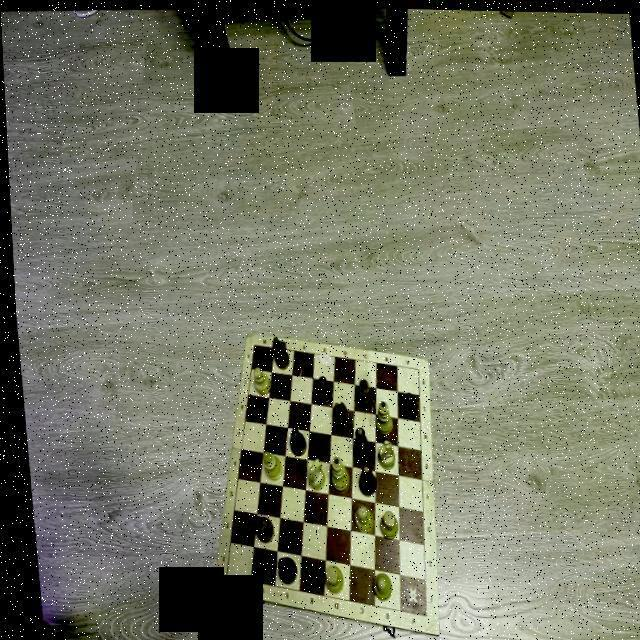chess-table-corners: (416, 610, 422, 618), (412, 365, 416, 370), (218, 573, 222, 577), (248, 342, 252, 345)
